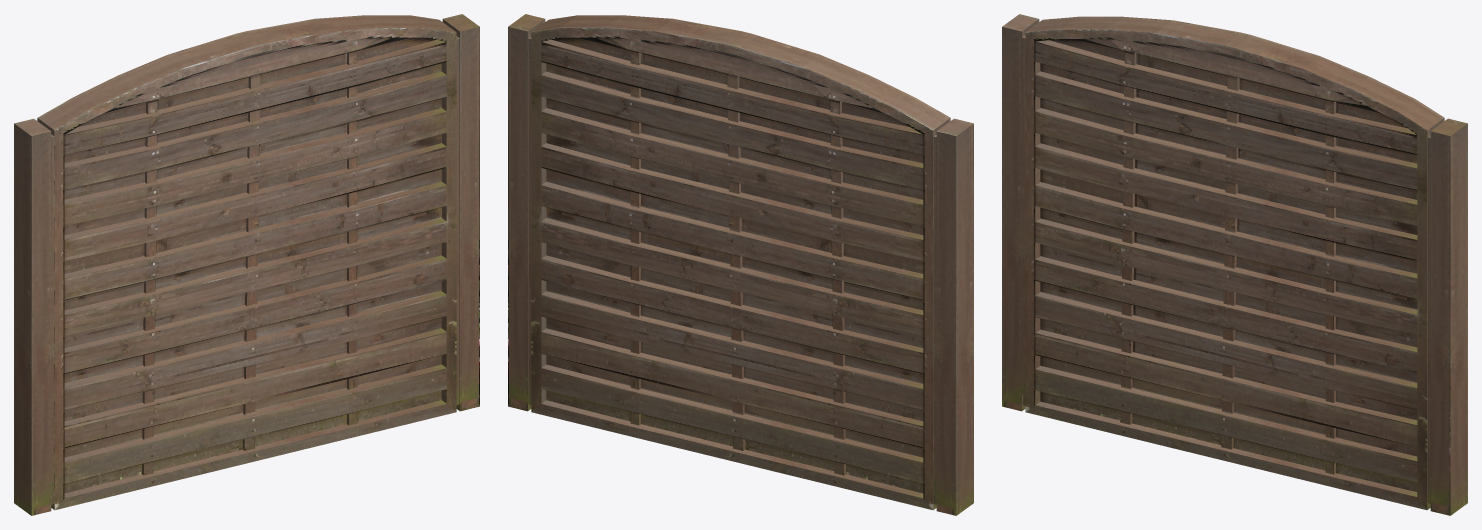
File: Porton_de_madera.fbx
3 views of the same model, side by side, from view 1: azimuth 30°, elevation 25°; view 2: azimuth 150°, elevation 25°; view 3: azimuth 330°, elevation 25° (orthographic).
Visible parts, largest first — view 1: Plano; view 2: Plano; view 3: Plano.
Part boxes in pixels (left/top/right/bottom): Plano: left=14, top=14, right=479, bottom=515; Plano: left=508, top=14, right=973, bottom=515; Plano: left=1002, top=14, right=1467, bottom=515.
Size of the model in its own units: 986 by 873 by 66.4.
